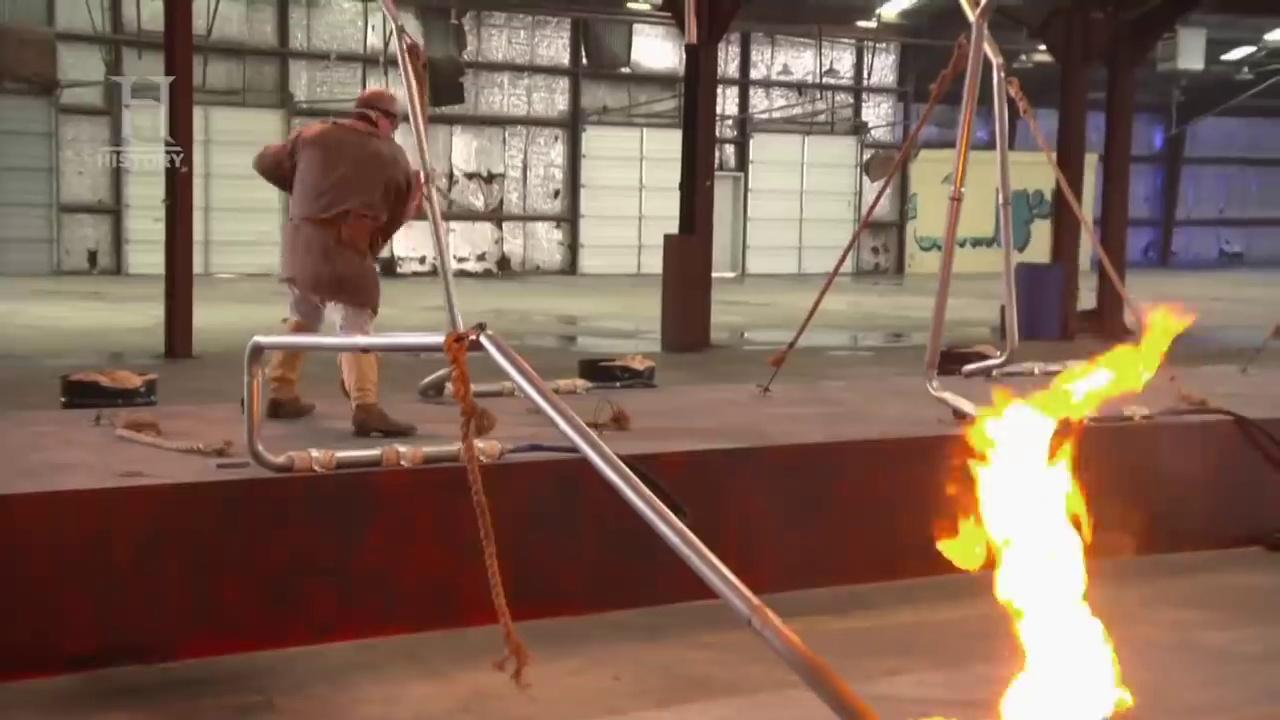Fire: (937, 288, 1196, 720)
